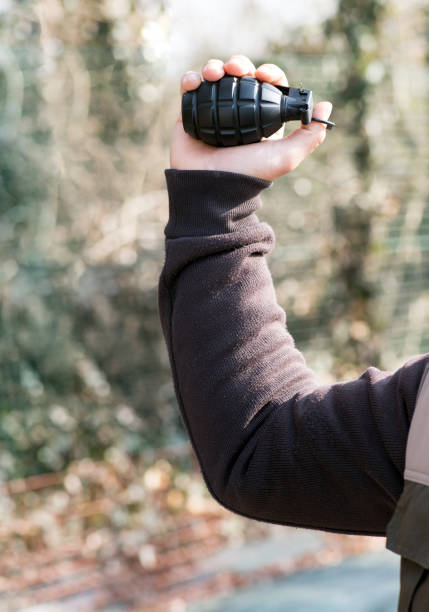e1: (172, 66, 336, 140)
